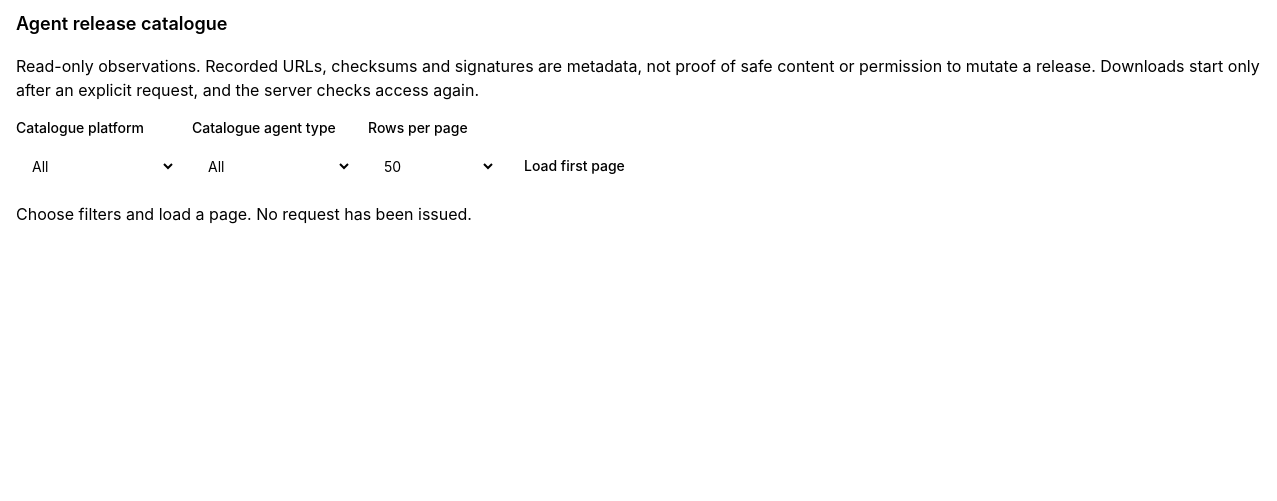
loads real streamed observations with paired identity and renders metadata without executable links or HTML
Click the button "Load first page". click: (574, 166)
box: x1=512 y1=146 x2=637 y2=186
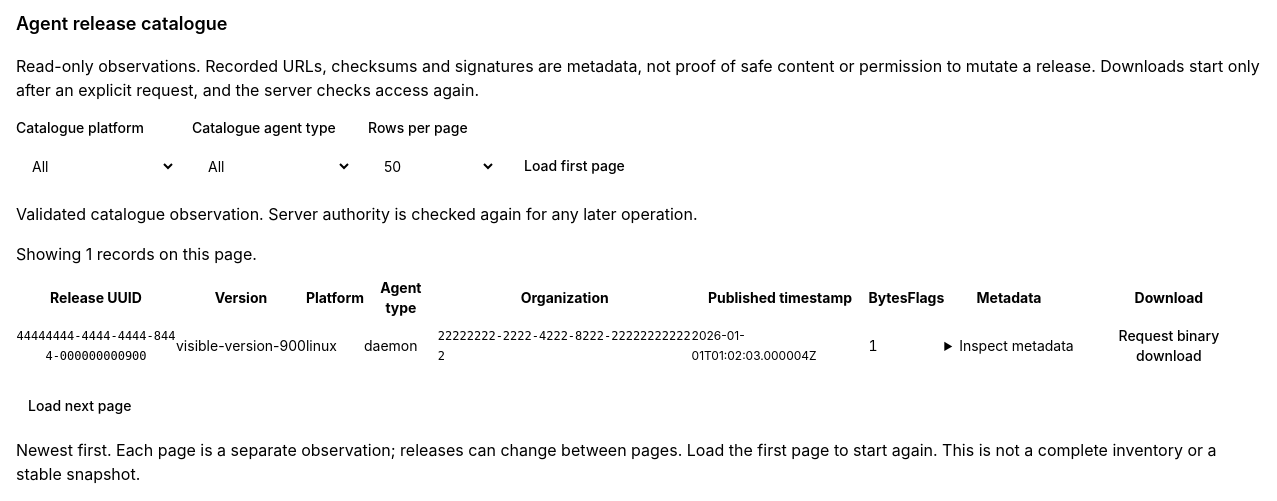
Result: the text "visible-version-900" is shown at x1=176 y1=318 x2=306 y2=374
Result: the button "Load next page" is disabled at x1=16 y1=386 x2=143 y2=426
